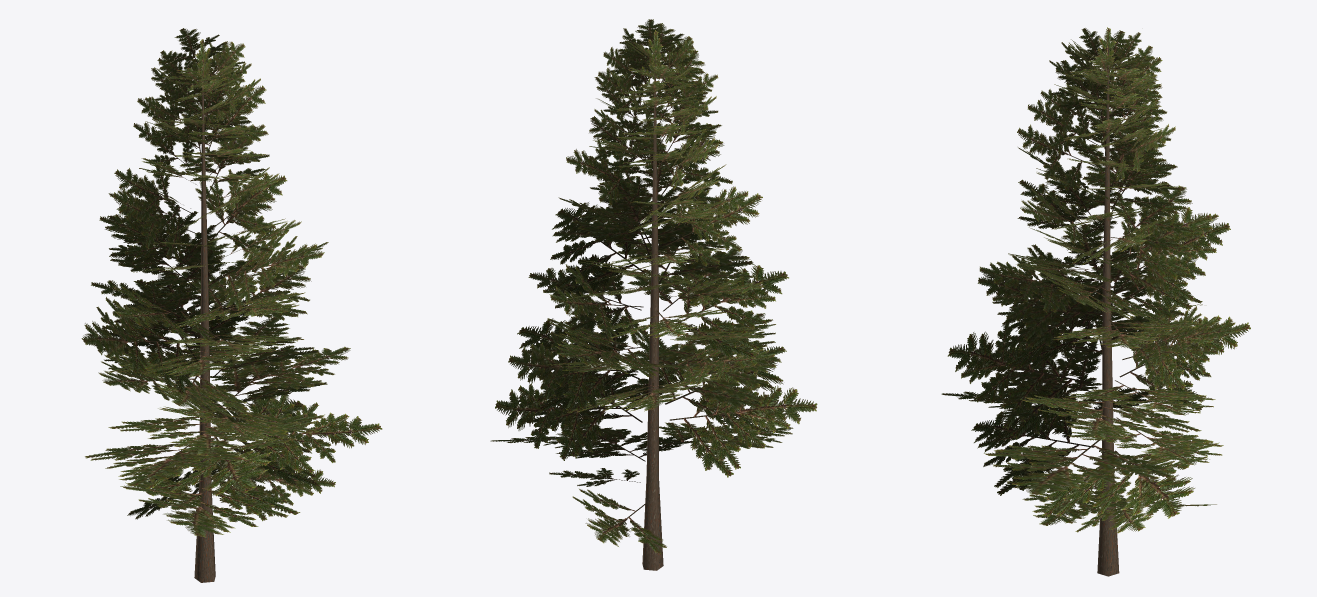
Rendered from fir_small_b_lod4.gltf.
3 renders of one model, left to right at view 1: azimuth 30°, elevation 25°; view 2: azimuth 150°, elevation 25°; view 3: azimuth 270°, elevation 25°, orthographic.
Visible parts, largest first — view 1: fir_small_b_LOD4; view 2: fir_small_b_LOD4; view 3: fir_small_b_LOD4.
Part boxes in pixels (box(x1,y1,x2,y2)): fir_small_b_LOD4: box(81, 28, 382, 582); fir_small_b_LOD4: box(490, 19, 817, 570); fir_small_b_LOD4: box(941, 27, 1250, 576).
Bounding box in the file's own units: 10.46 × 14.44 × 9.53.
Materials: 2 (2 with a texture image).
